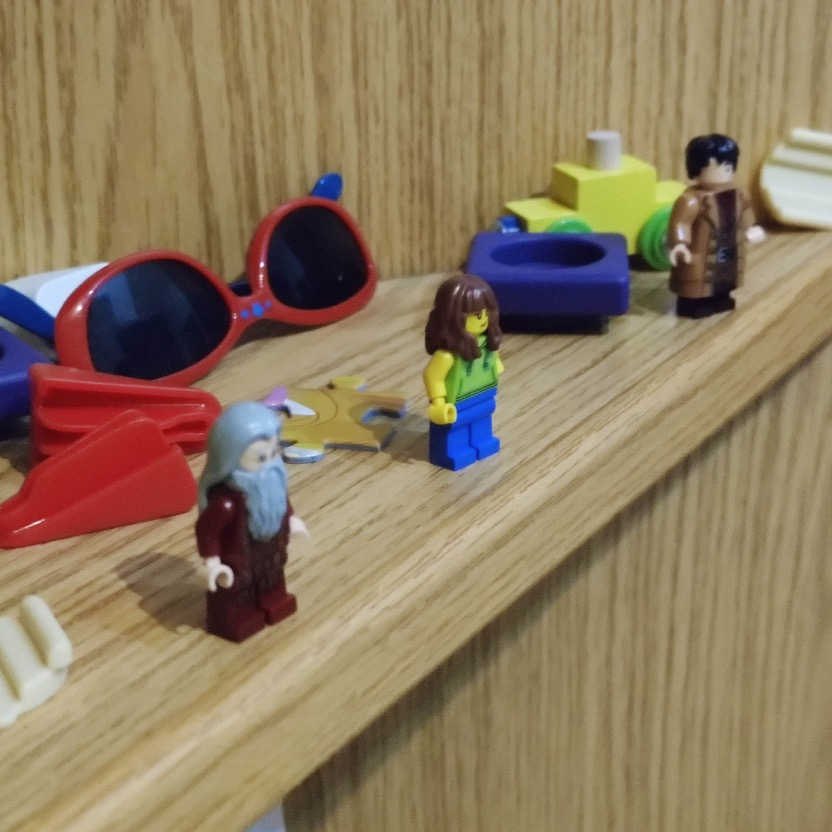lego: (193, 402, 299, 643), (668, 133, 766, 320), (421, 275, 504, 470)
